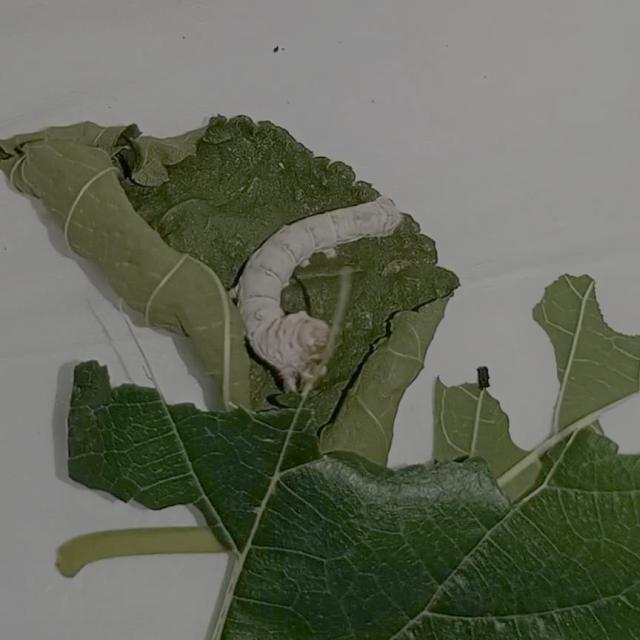Healthy: (226, 189, 418, 392)
